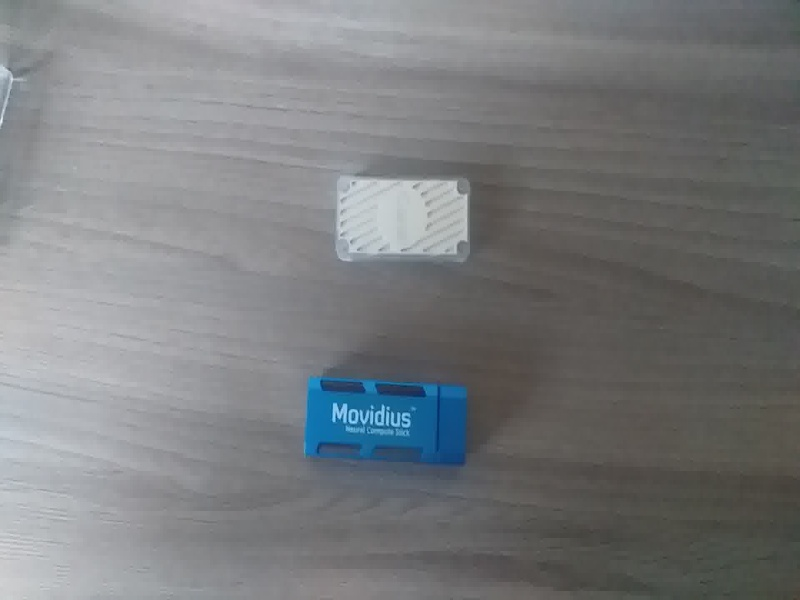coral: (330, 166, 481, 270)
movidius: (302, 370, 476, 474)
